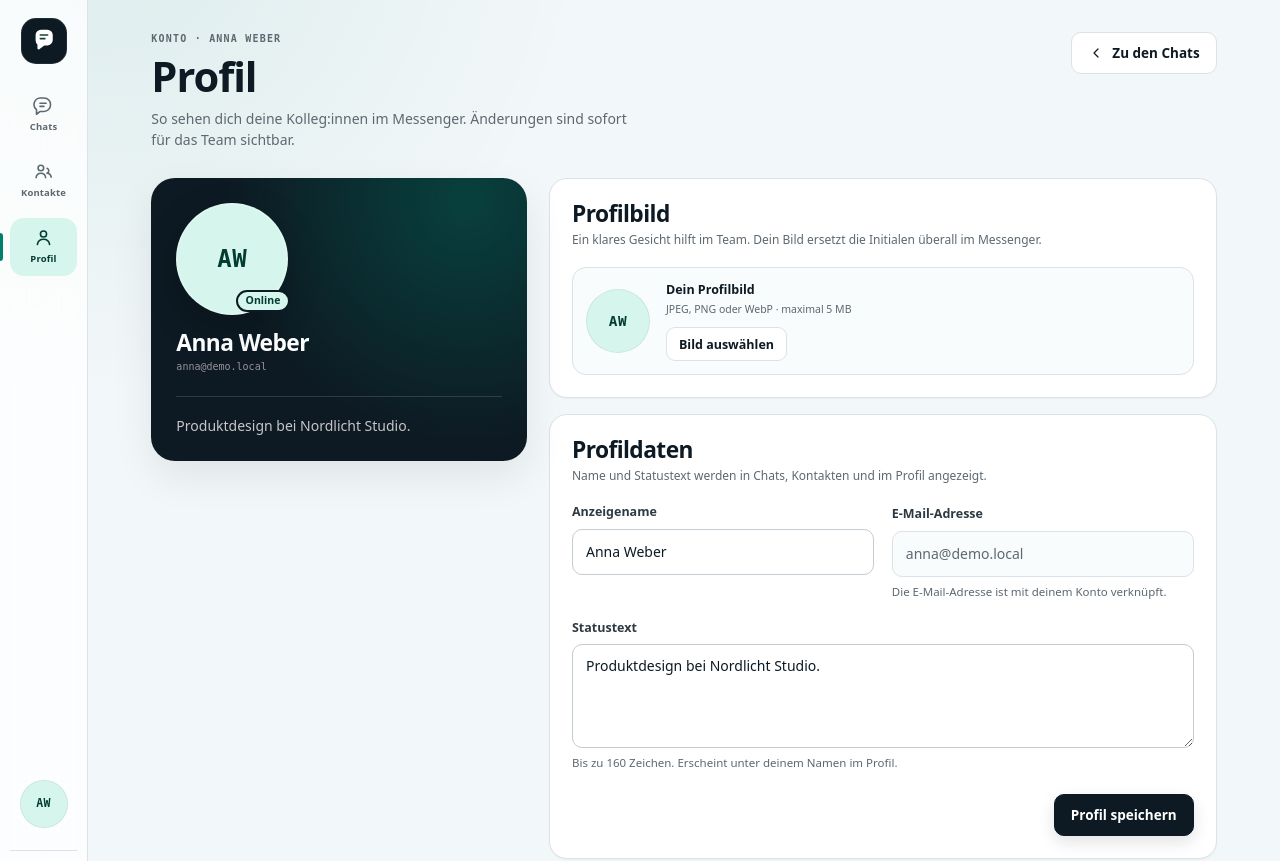
Test: ProfilePage › saves name and status text and updates the signed-in user
The width and height of the screenshot is (1280, 861).
Step 1. Replace the text in the field labelled "Anzeigename" with "Anna Schmidt" → (723, 552), box [572,529,874,575]
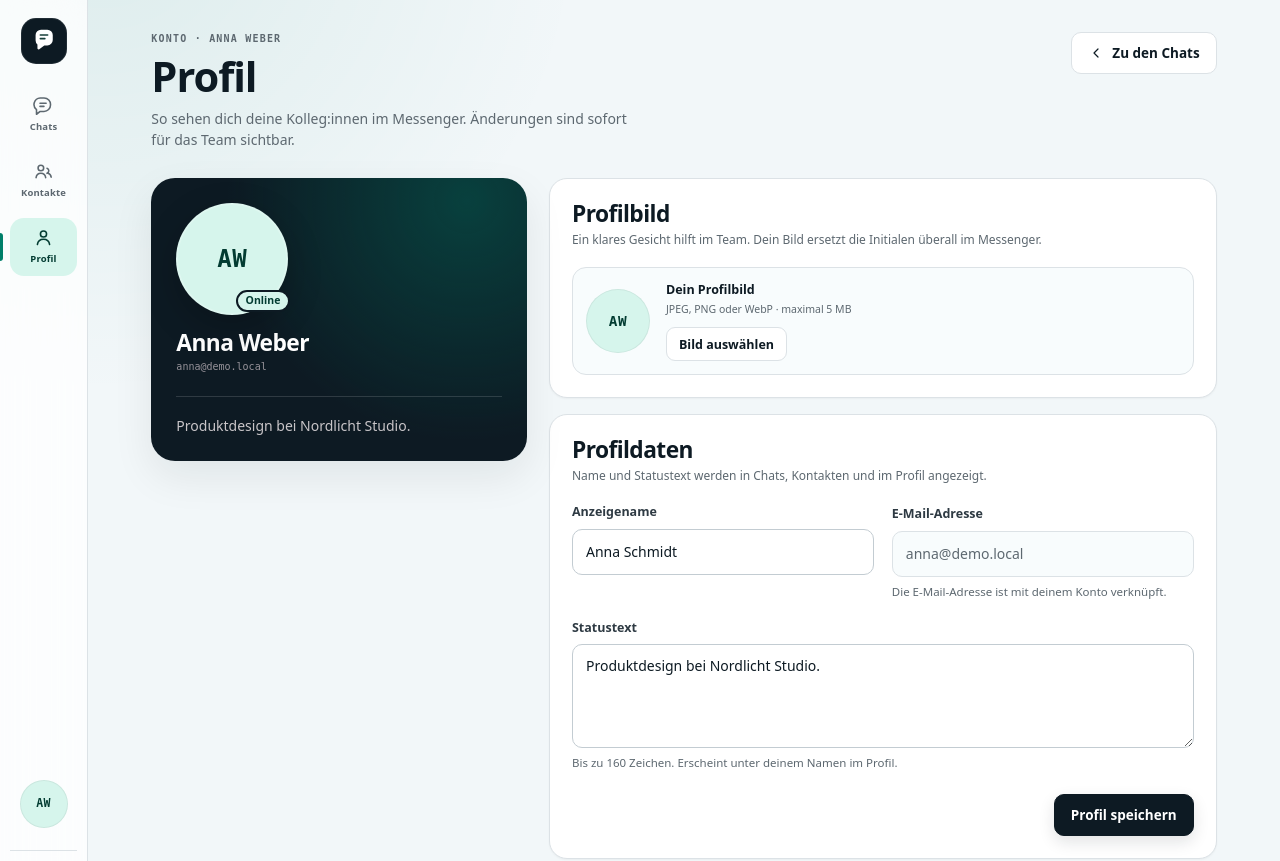
Step 2. Replace the text in the text box labelled "Statustext" with "Neuer Statustext." → (883, 696), box [572,644,1194,748]
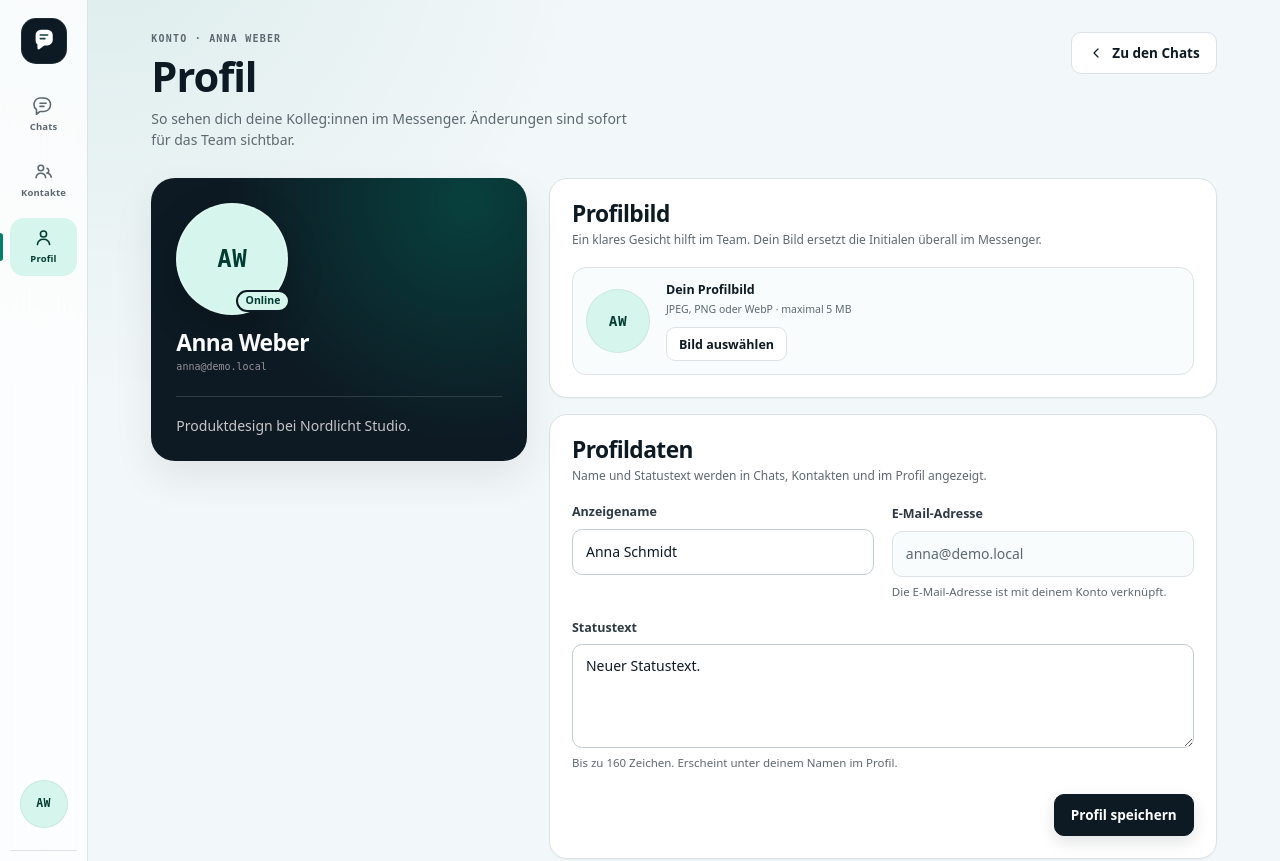
Step 3. Click the button "Profil speichern" → (1124, 815), box [1054,794,1194,836]
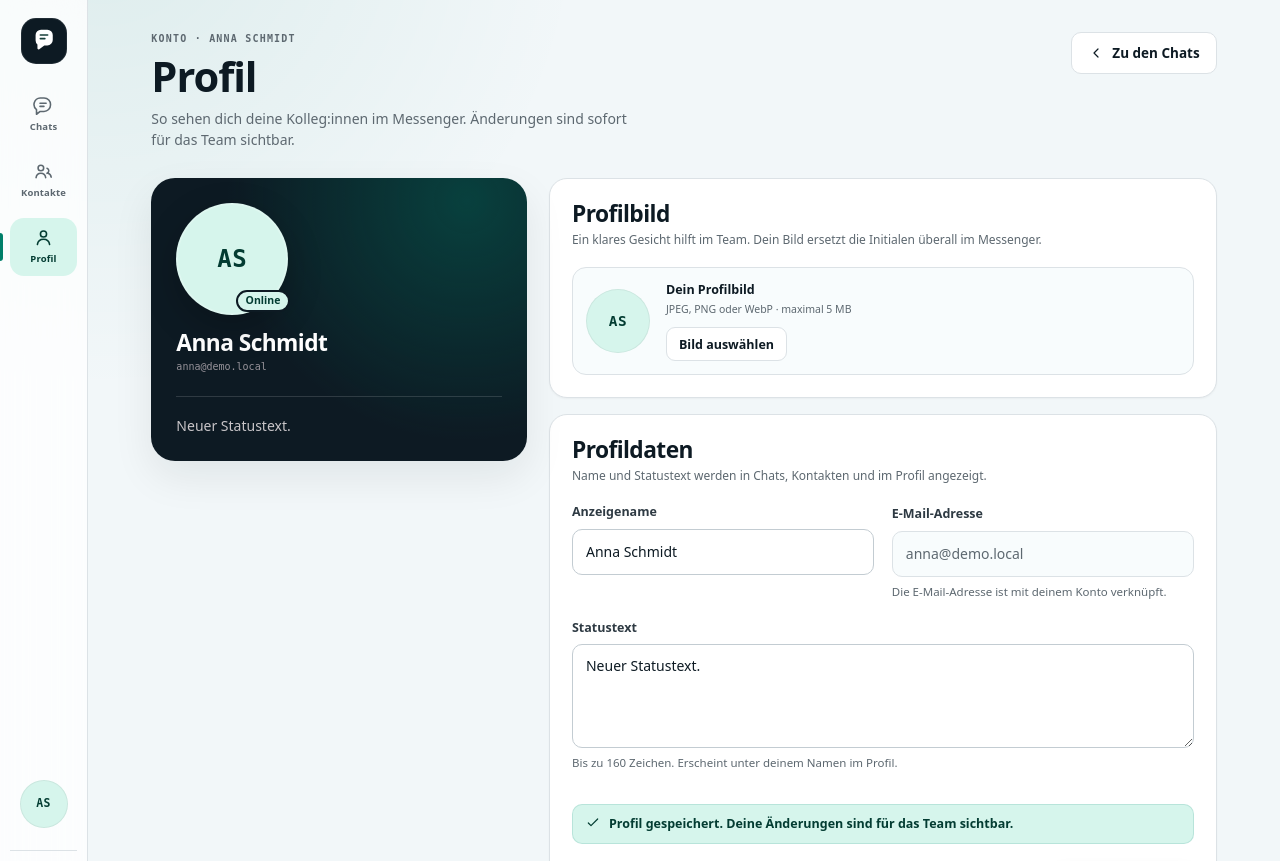
Check: the text "Profil gespeichert. Deine Änderungen sind für das Team sichtbar." is shown, box [609,815,1013,833]
Check: the heading "Anna Schmidt" is shown, box [176,330,327,355]
Check: the text "Konto · Anna Schmidt" is shown, box [151,33,296,44]
